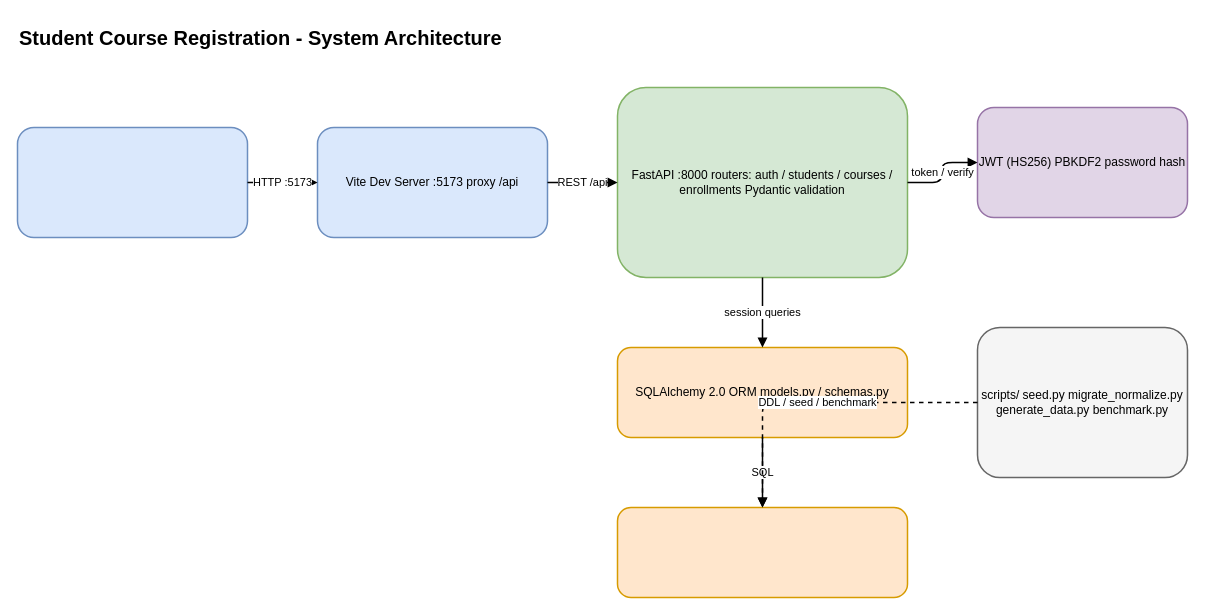
Some shapes in this 1206 by 615 pixel diagram are drawn without their labels. The shapes that lost their labels are listed below. From the top down, each one's centre as x and y in pixels, then its label:
pixel 132 182: Browser Vue 3 + Element Plus (SPA)
pixel 762 552: SQLite backend/students.db PRAGMA foreign_keys=ON
